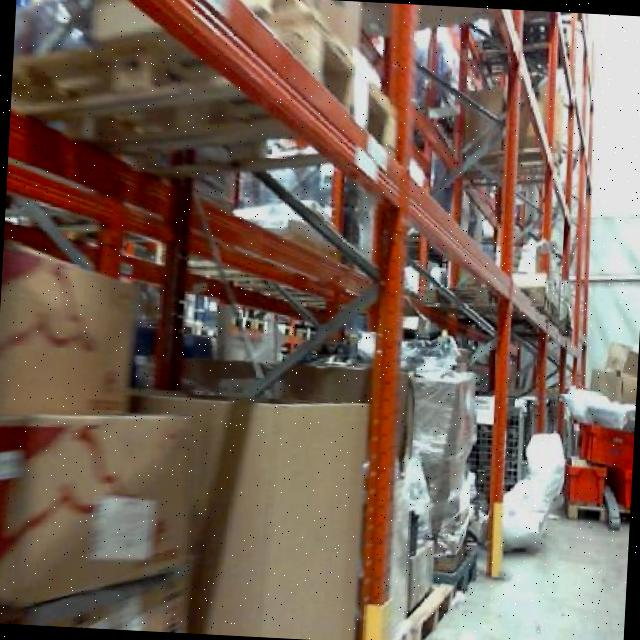pallet: (271, 4, 407, 164)
